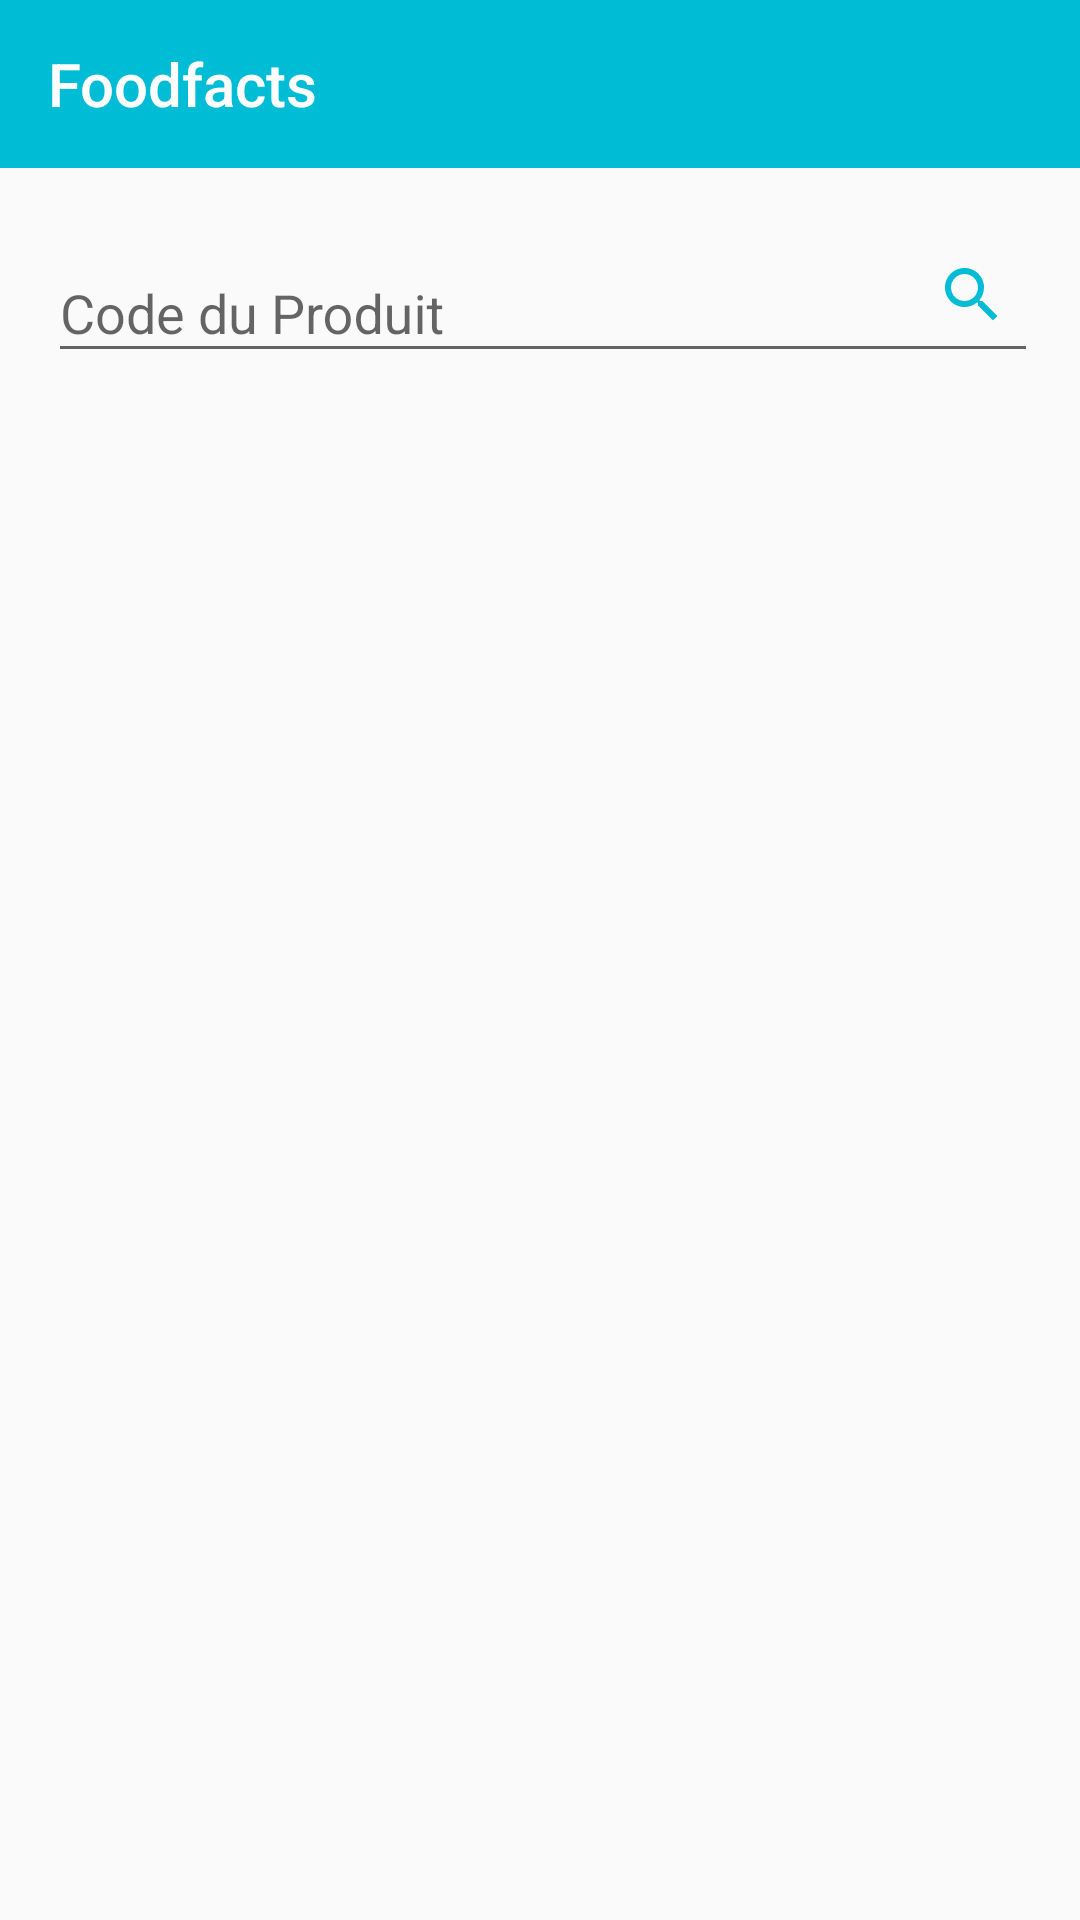

Locate icon controls on the screen. Image size 1080px x 1920px, boxes as (x1, y1, x2, y2).
search: (945, 268, 997, 320)
